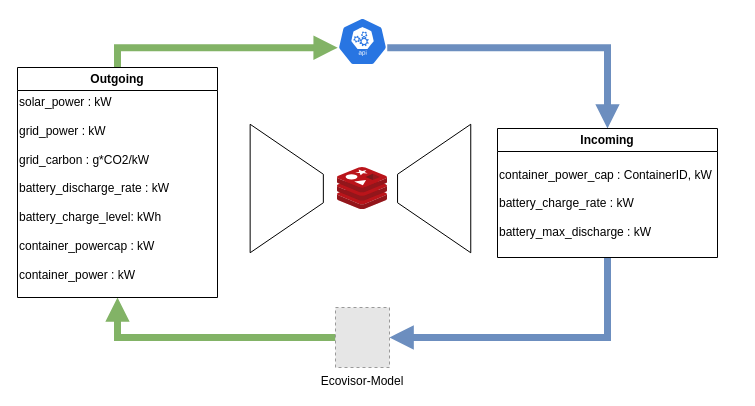
The diagram is 755 pixels wide and 406 high, and some of its shapes have lost their labels. Grey dashed boxes stand in for pictures. Each missing label, with the box of its shape:
API Server: (336, 16, 388, 66)
RedisDB: (337, 167, 387, 209)
